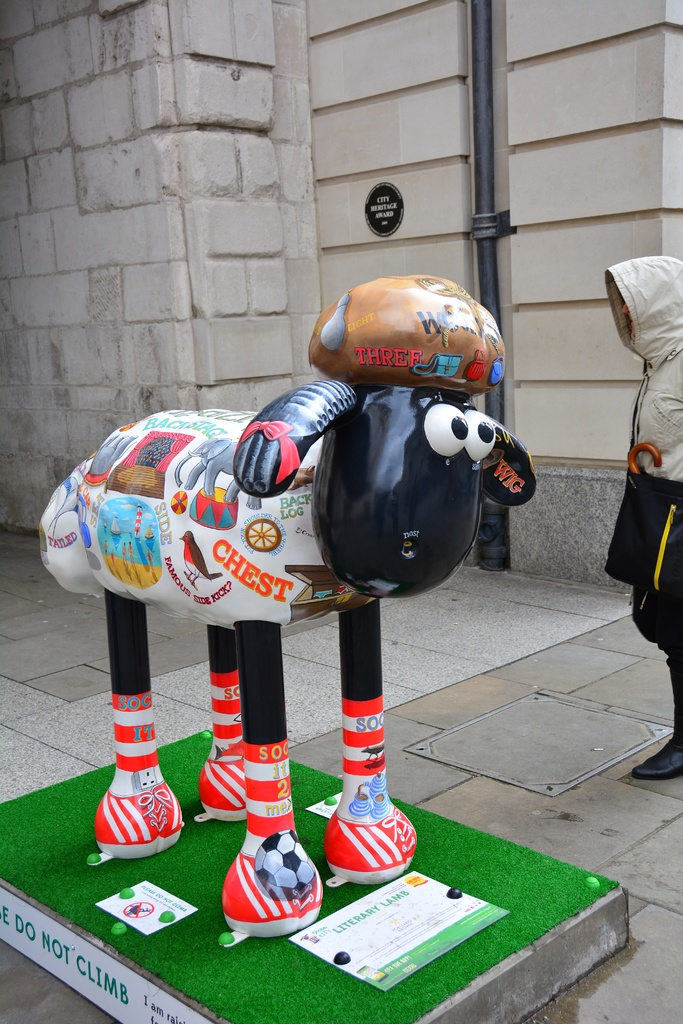Ball: (252, 830, 312, 895)
